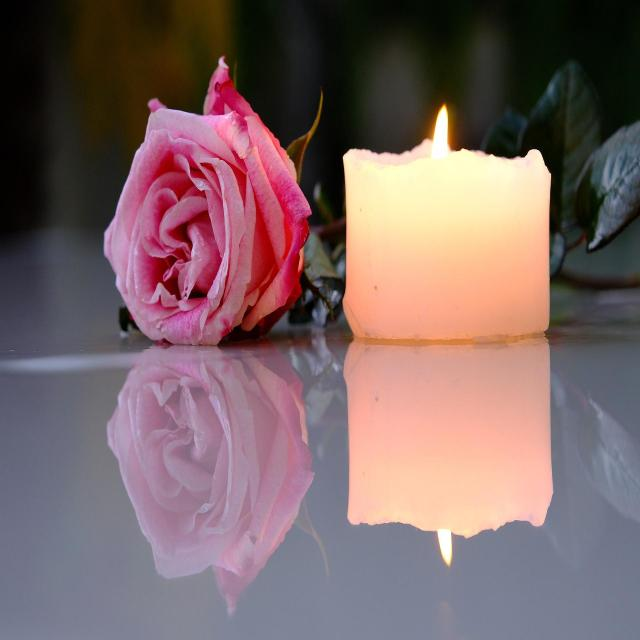Fire_Save: (341, 102, 552, 342), (342, 338, 554, 566)
